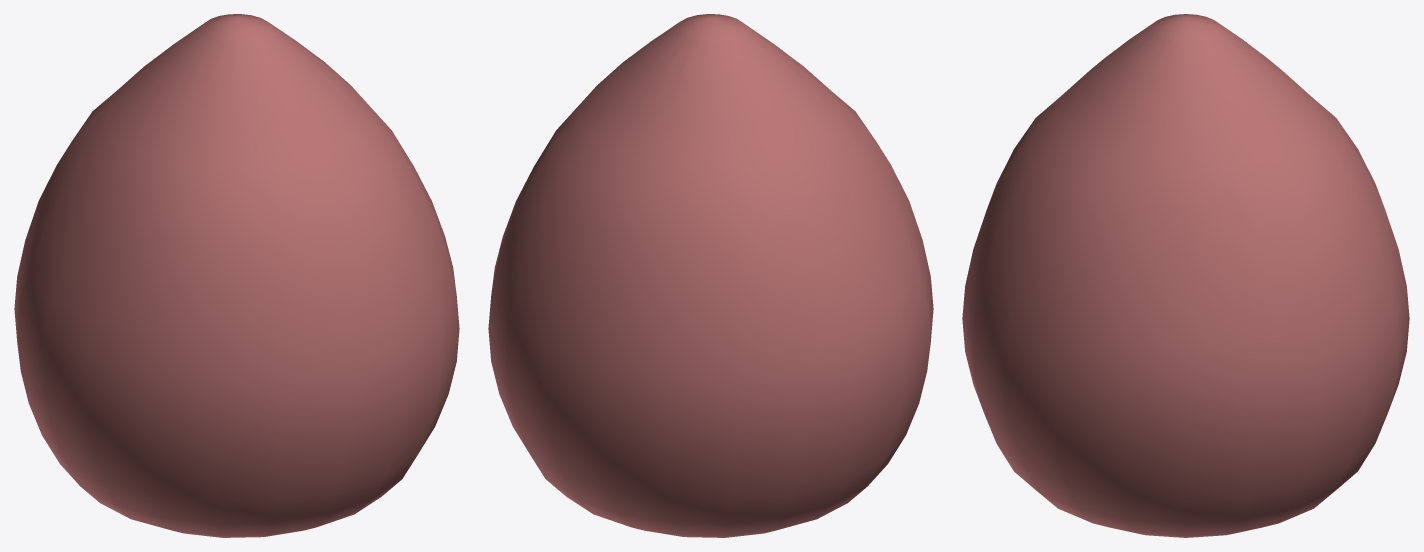
File: berry.glb
The picture shows the model from 3 angles, left to right: view 1: azimuth 30°, elevation 25°; view 2: azimuth 150°, elevation 25°; view 3: azimuth 270°, elevation 25°; orthographic projection.
Parts seen in each view (by area): view 1: pSphere2; view 2: pSphere2; view 3: pSphere2.
Part boxes in pixels (left/top/right/bottom): pSphere2: left=14, top=14, right=459, bottom=537; pSphere2: left=488, top=14, right=933, bottom=537; pSphere2: left=962, top=14, right=1409, bottom=537.
Size of the model in its own units: 1.65 by 1.95 by 1.65.
